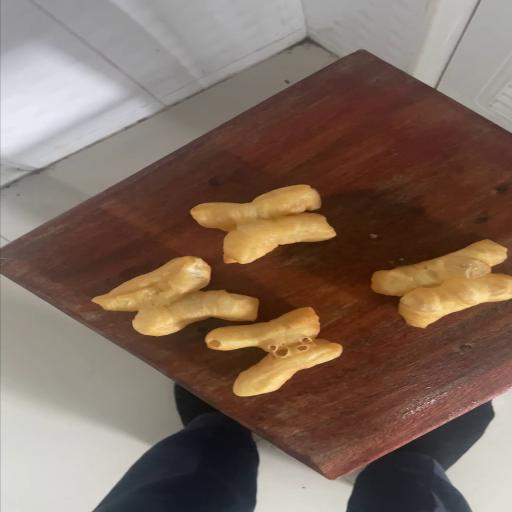street_golden_defect: (371, 239, 512, 328), (205, 307, 342, 397)
street_golden_good: (91, 256, 259, 336), (191, 185, 335, 264)
